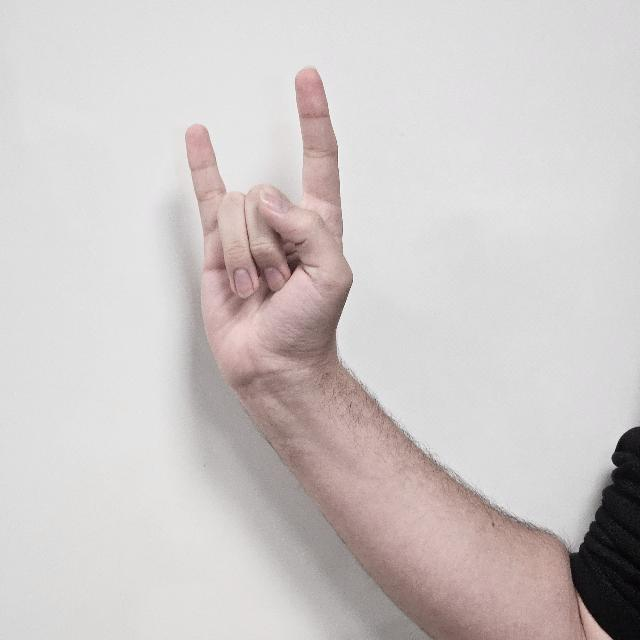L: (178, 75, 368, 388)
